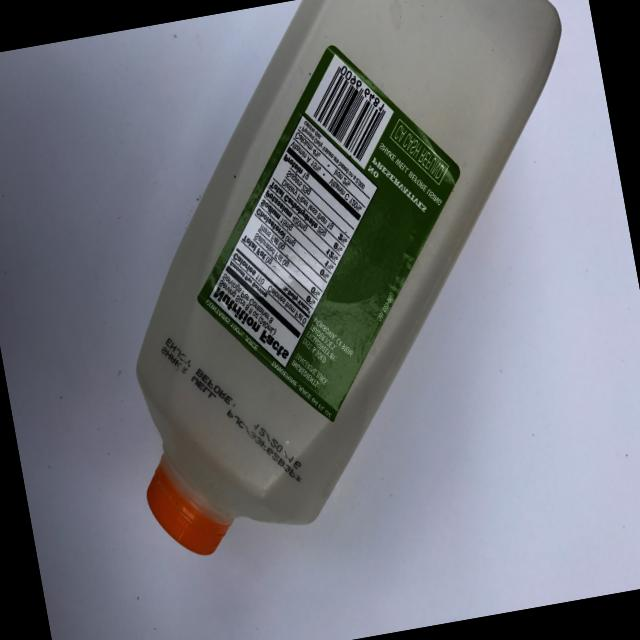Plastic: (46, 0, 640, 595)
